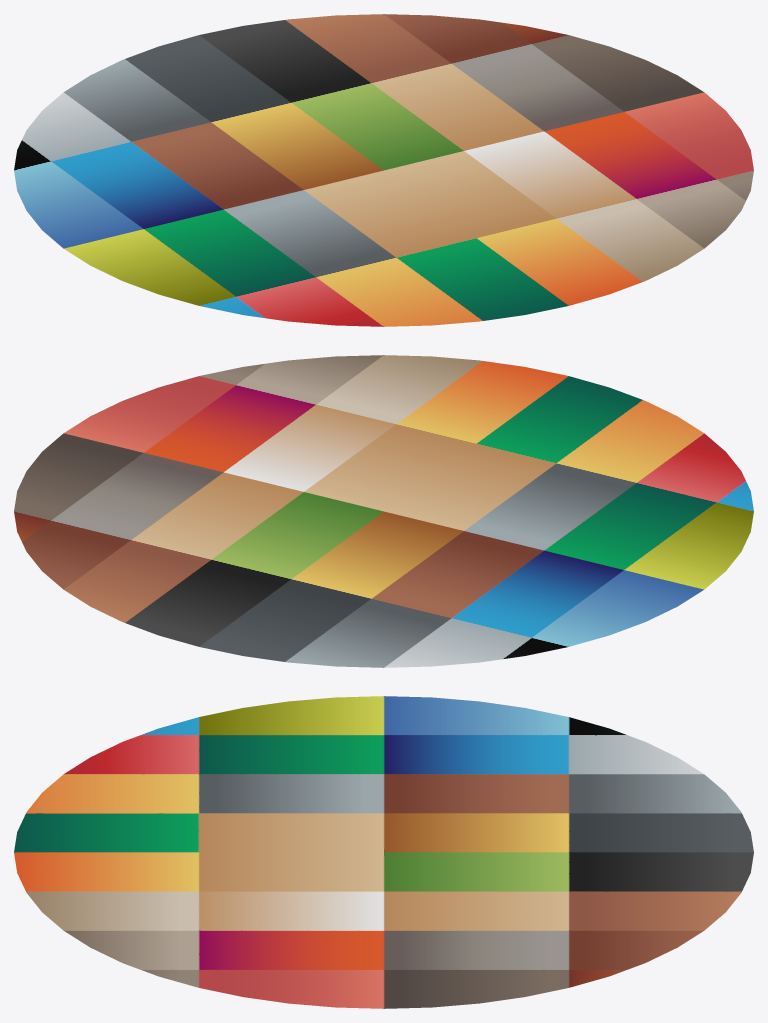
Rendered from lava_lake.glb.
The picture shows the model from 3 angles, top to bottom: view 1: azimuth 30°, elevation 25°; view 2: azimuth 150°, elevation 25°; view 3: azimuth 270°, elevation 25°; orthographic projection.
Visible parts, largest first — view 1: lava_lake; view 2: lava_lake; view 3: lava_lake.
Boxes of the visible parts, bbox=[...] form: lava_lake: bbox=[14, 14, 753, 326]; lava_lake: bbox=[14, 355, 753, 667]; lava_lake: bbox=[14, 696, 753, 1008].
Bounding box in the file's own units: 12.8 × 0 × 12.8.
1 material, 1 textured.
